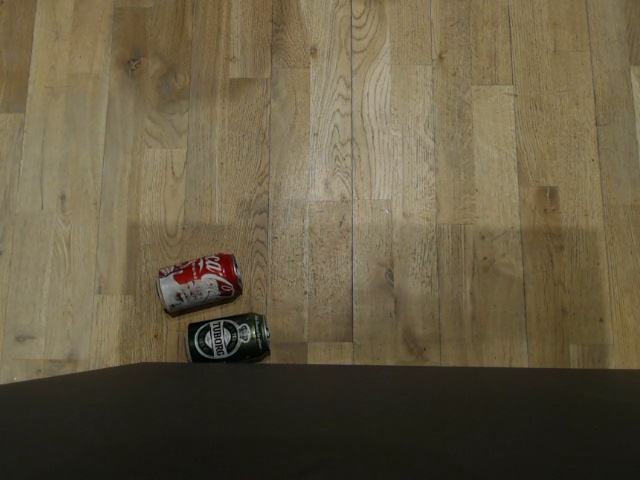beer: (183, 312, 273, 364)
cola: (155, 251, 245, 316)
